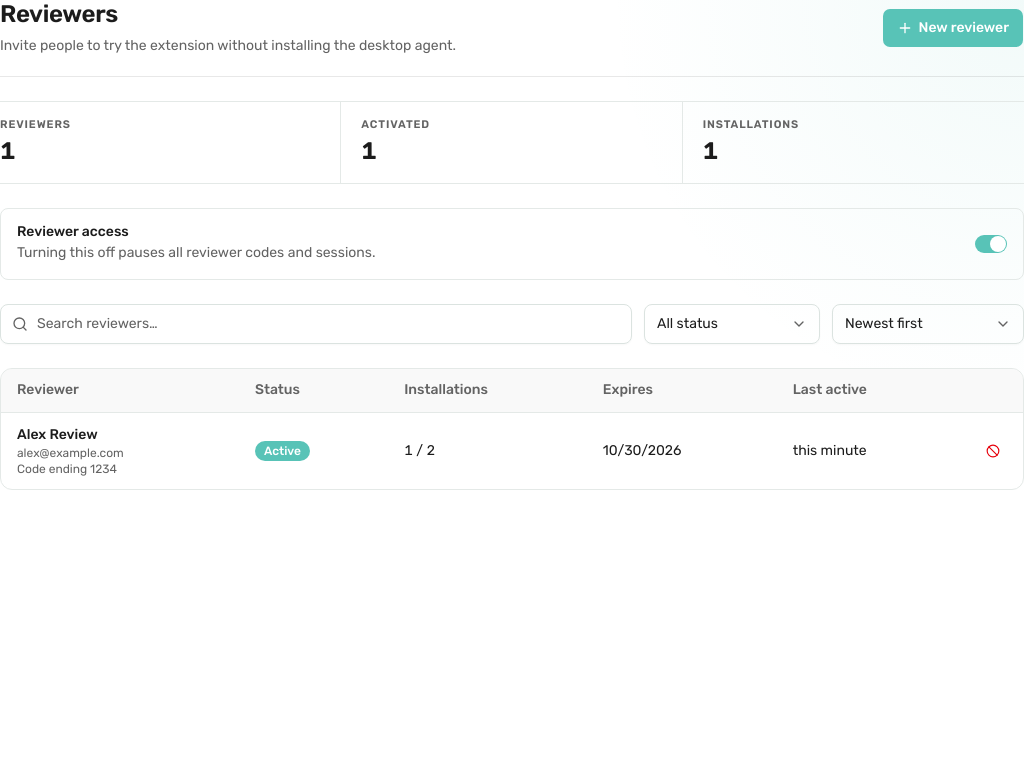
Test: revokes only after confirming the named reviewer
The width and height of the screenshot is (1024, 768).
Click the button named "Revoke Alex Review" at (993,451), box [979,437,1007,465]
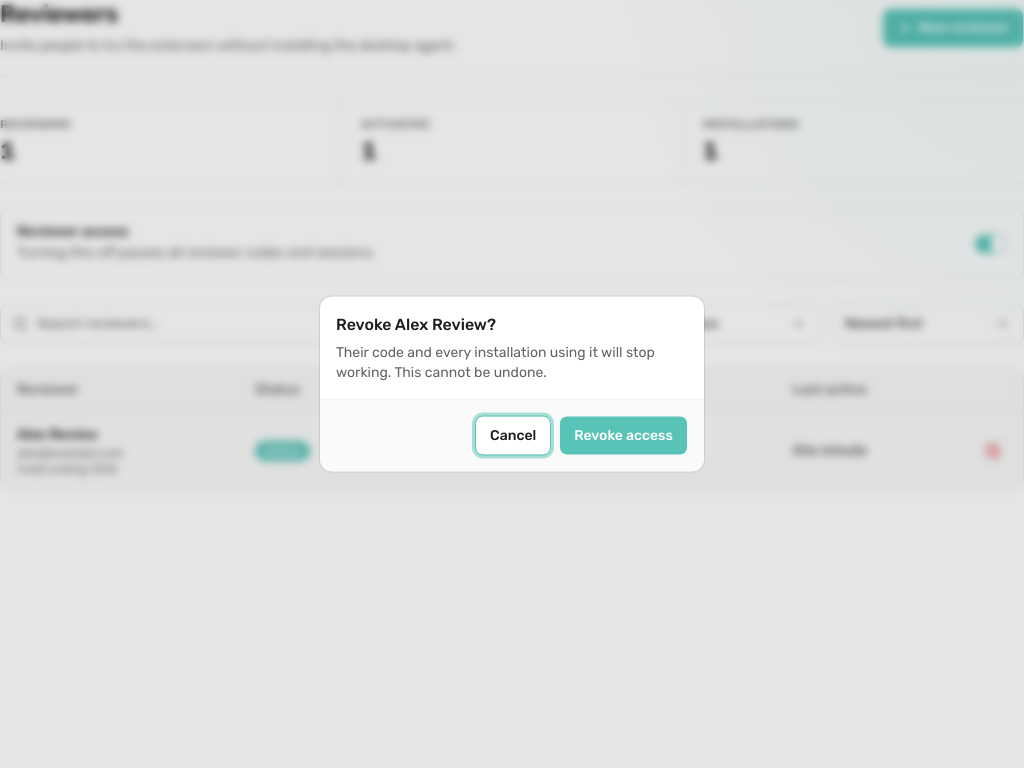
expect the heading "Revoke Alex Review?" is shown: met, box [336,312,496,336]
Click the button "Revoke access" at (624,436), box [559,416,688,456]
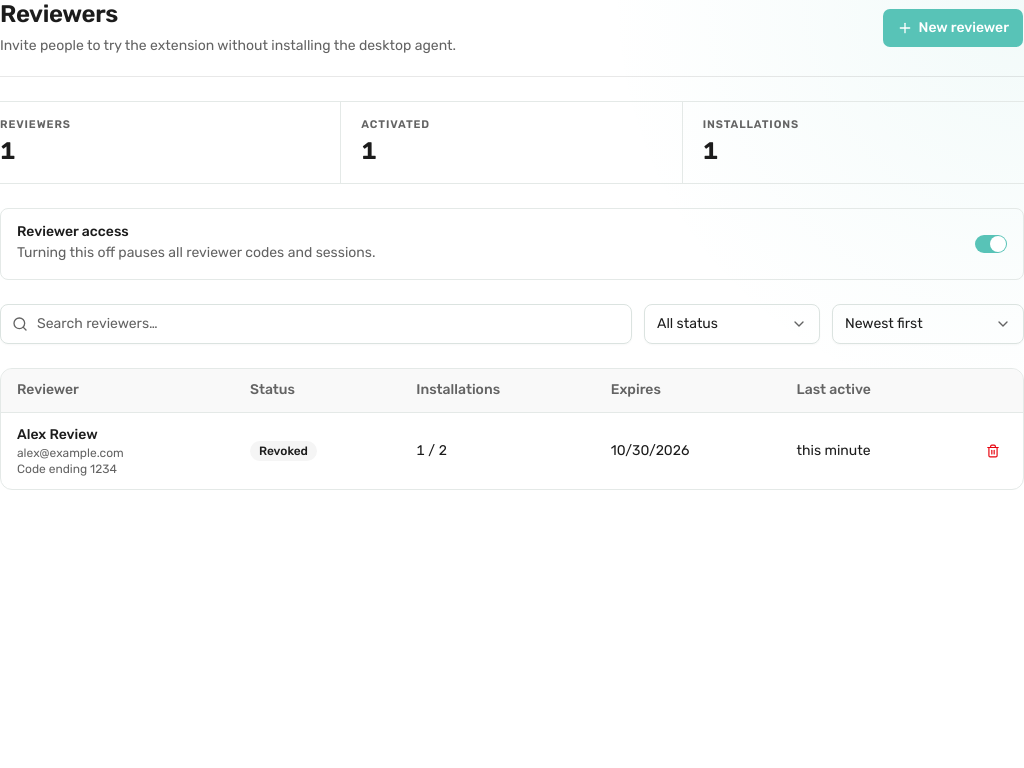
expect the button "Revoked" is shown: met, box [250,441,317,461]
expect the heading "Revoke Alex Review" is gone: met
